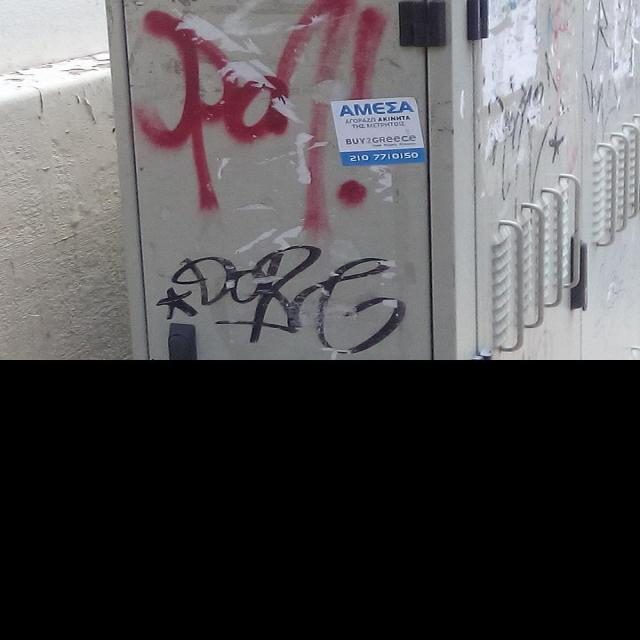nonspitting: (128, 0, 388, 236), (158, 242, 403, 354)
